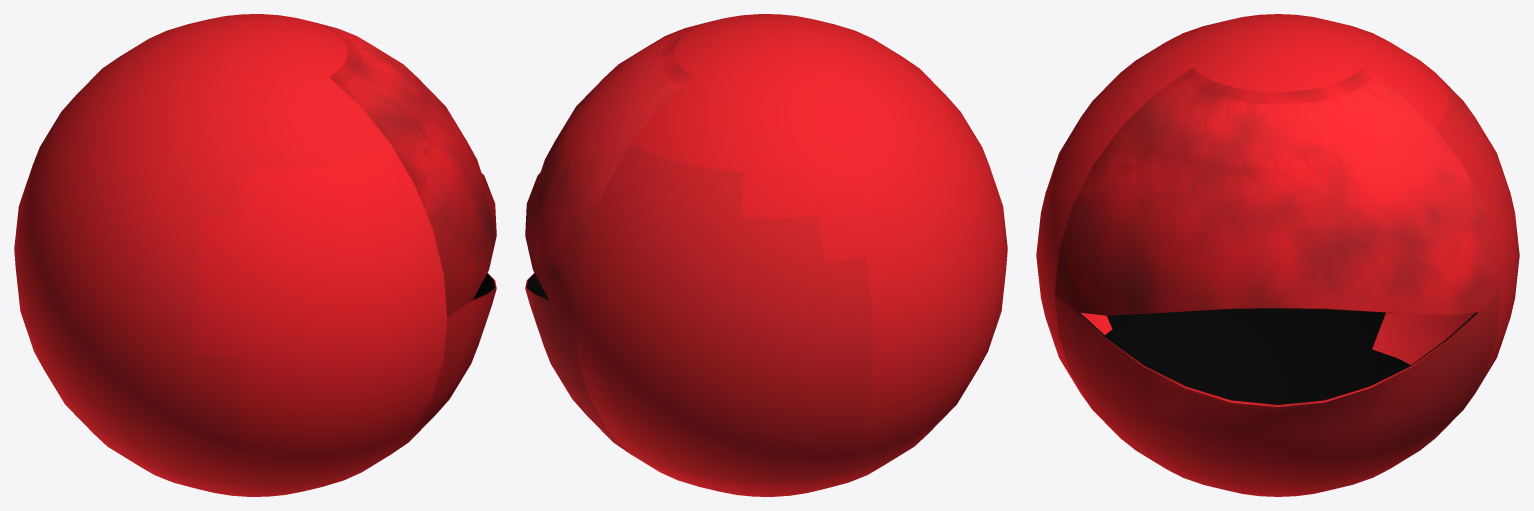
Rendered from eye_outer.fbx.
3 renders of one model, left to right at view 1: azimuth 30°, elevation 25°; view 2: azimuth 150°, elevation 25°; view 3: azimuth 270°, elevation 25°, orthographic.
Visible parts, largest first — view 1: 球; view 2: 球; view 3: 球.
Boxes of the visible parts, box(x1,y1,x2,y2) form: 球: box(14, 14, 496, 496); 球: box(525, 14, 1007, 496); 球: box(1036, 14, 1519, 496).
Size of the model in its own units: 200 by 200 by 200.
